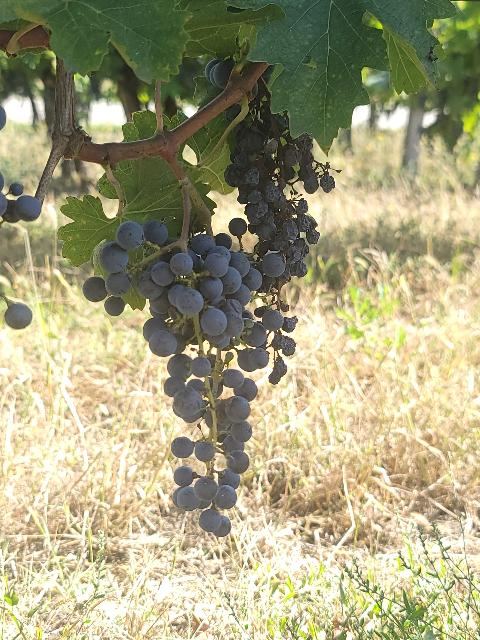grapes: (82, 221, 295, 538), (224, 80, 335, 292)
